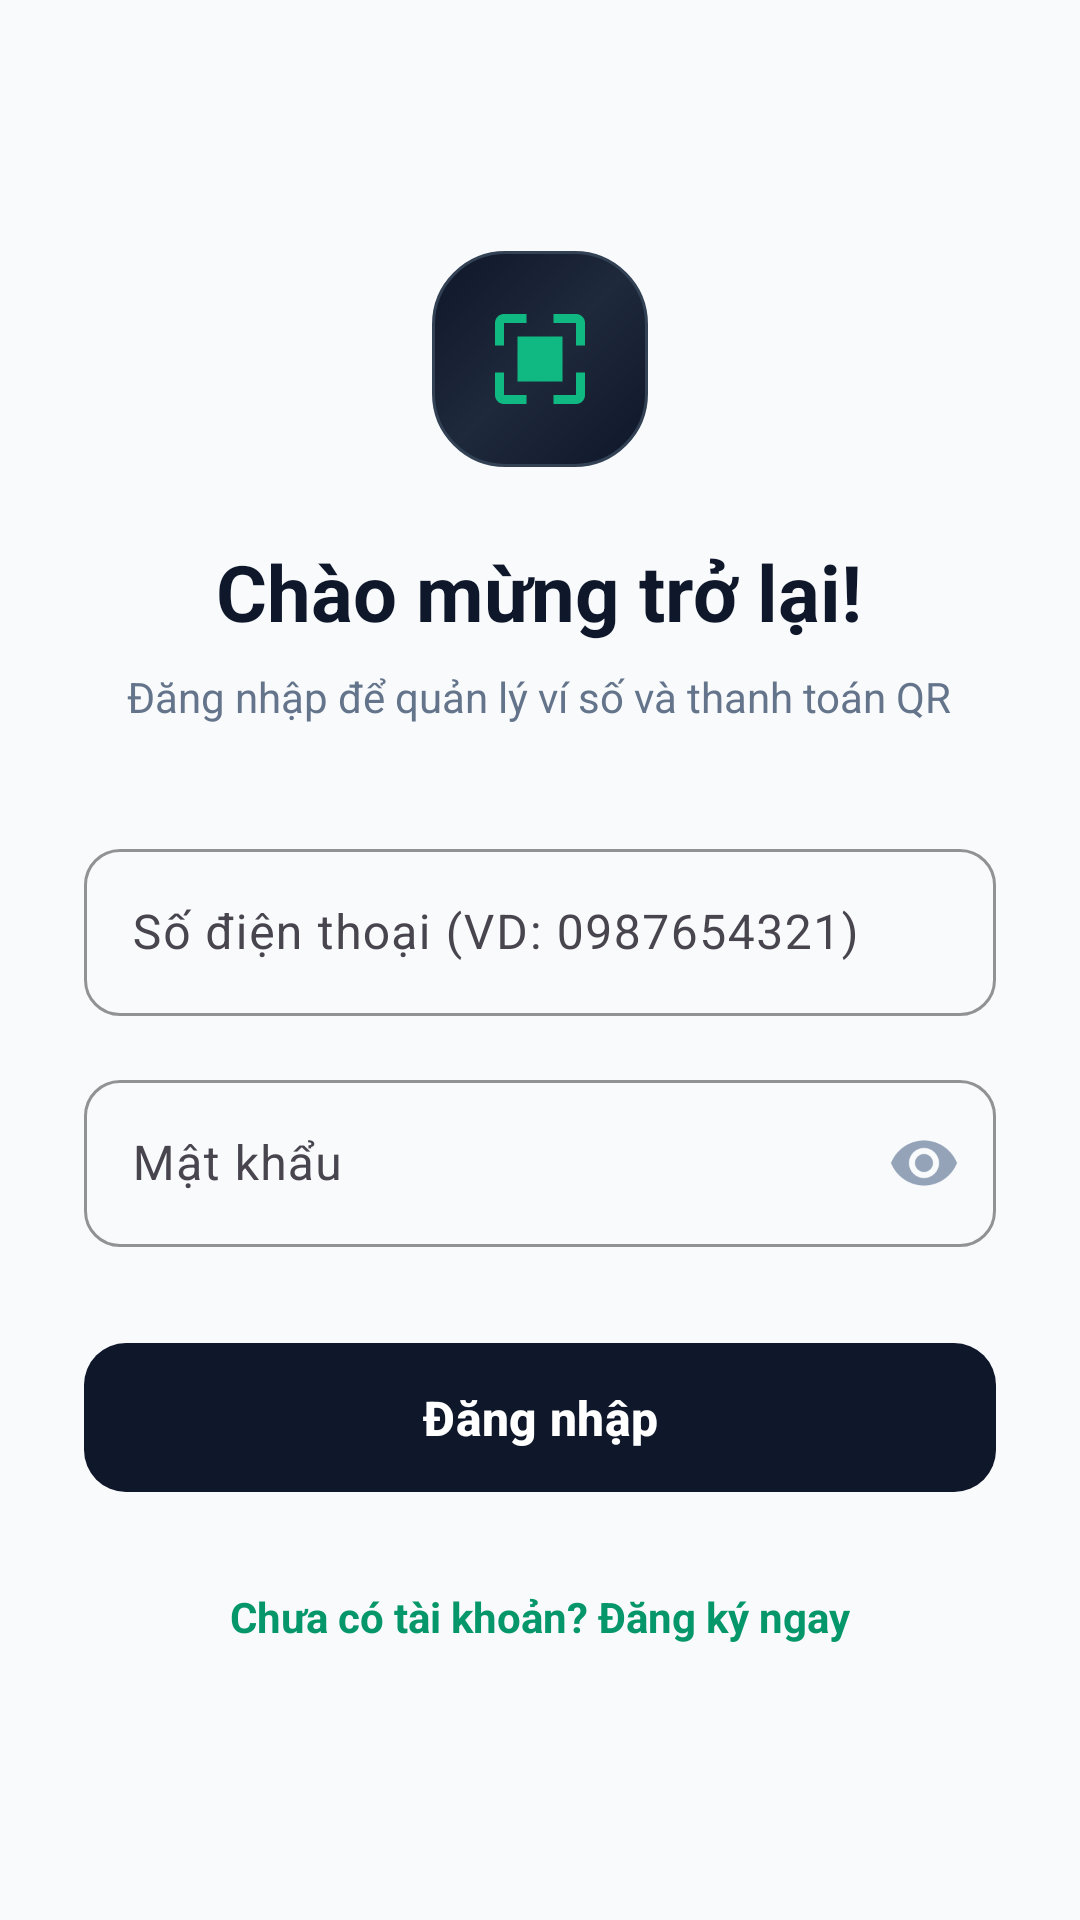

Screen size 1080*1920. Icon name, then its center in pixels as [x,y]:
qr scan: [540,359]
